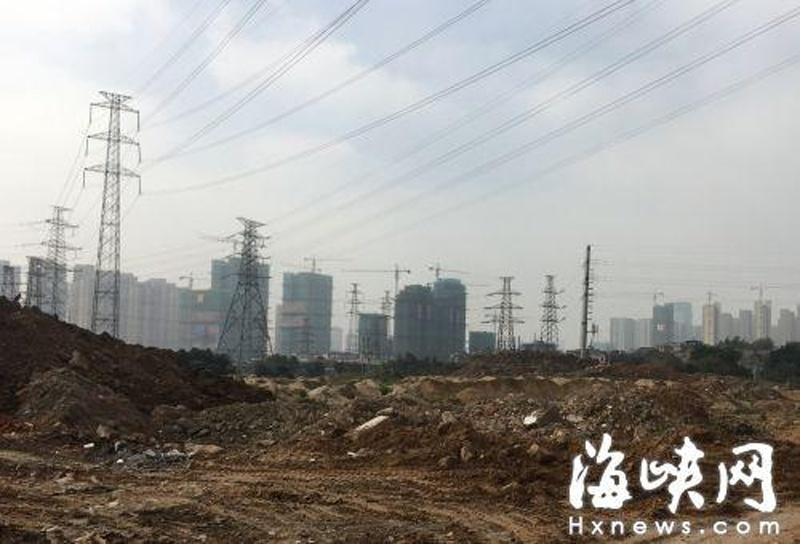power_tower: (78, 89, 151, 352), (210, 207, 279, 368), (483, 272, 521, 360), (536, 268, 569, 350)
